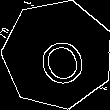O_NW: (27, 23, 88, 86)
